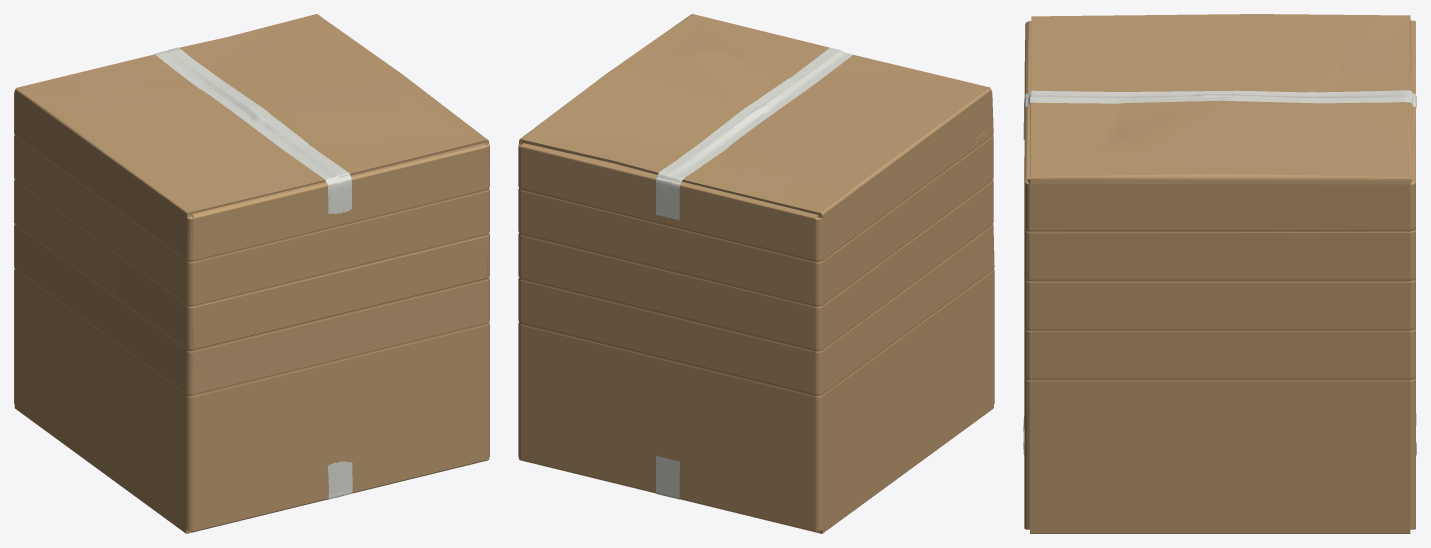
File: box_multiDepth_white_b05.glb
3 views of the same model, side by side, from view 1: azimuth 30°, elevation 25°; view 2: azimuth 150°, elevation 25°; view 3: azimuth 270°, elevation 25° (orthographic). The views are drawn at different scales.
Size of the model in its own units: 0.306 by 0.3143 by 0.3096.
